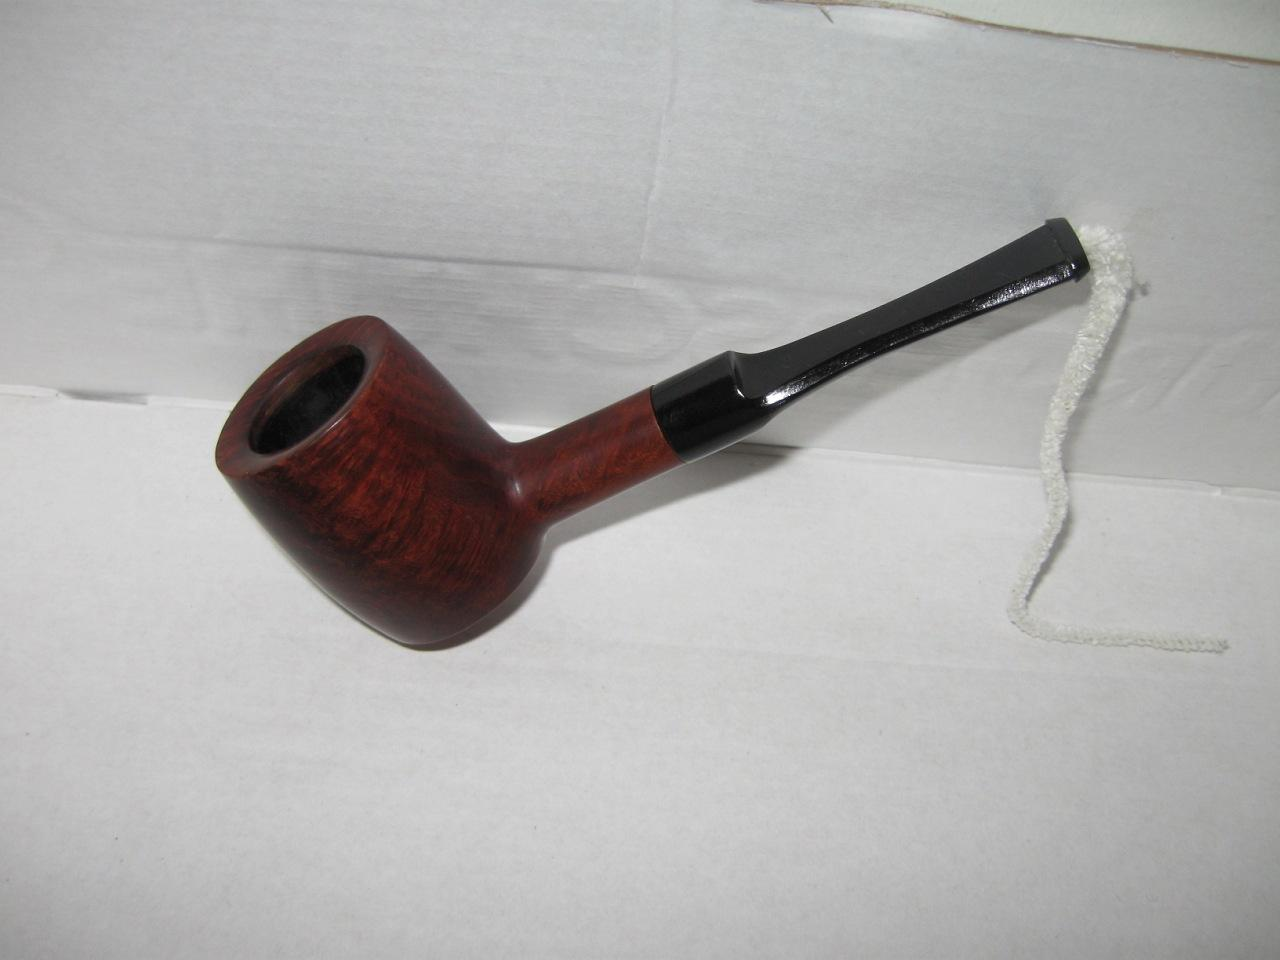trubka: (215, 219, 1090, 647)
